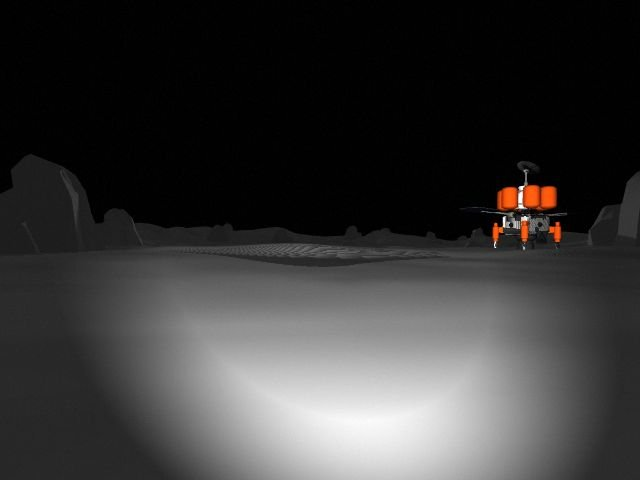homebase: (462, 158, 579, 254)
